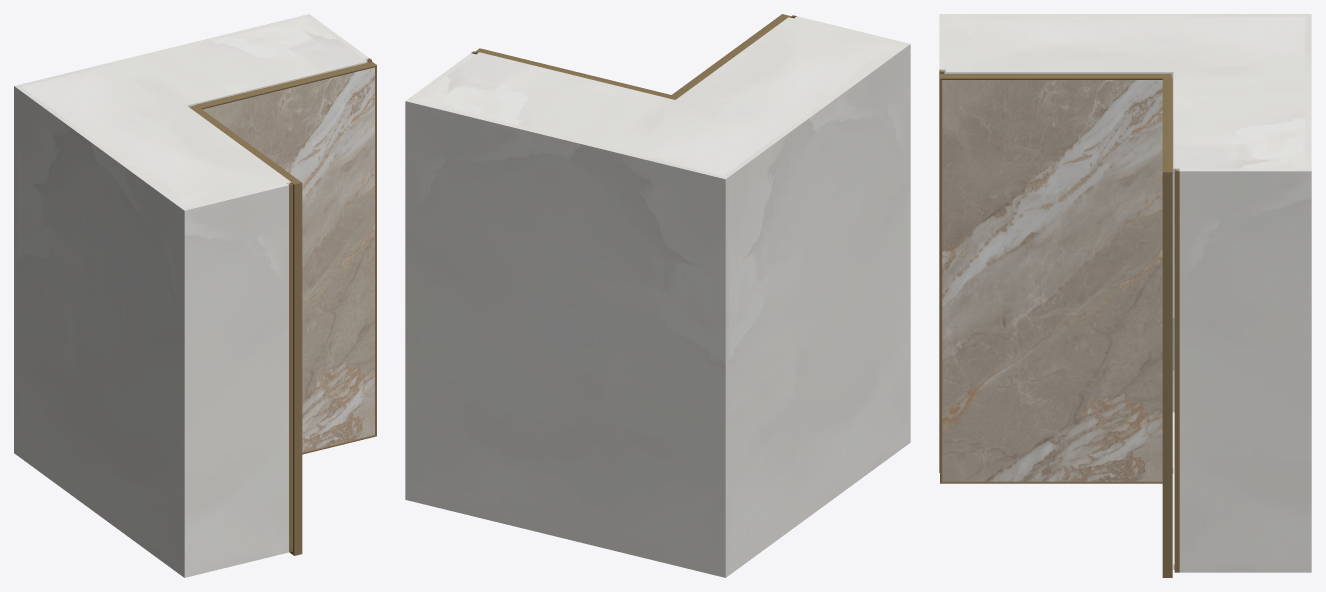
The model's file is WLC-SH-NHX-ST-3SG-XXX-900-1085-336-15.glb.
3 views of the same model, side by side, from view 1: azimuth 30°, elevation 25°; view 2: azimuth 150°, elevation 25°; view 3: azimuth 270°, elevation 25° (orthographic). The views are drawn at different scales.
Parts seen in each view (by area): view 1: TP_node_0, TP_node_2, Object_node_17, TP, Extrusion_node_5, TP_node_1, Object_node_5, Extrusion, Extrusion_node_2, Extrusion_node; view 2: TP_node_1, TP_node_0, TP, TP_node, TP_node_2, Extrusion_node_2, Extrusion; view 3: Object_node_19, TP_node, TP, Extrusion_node, Object_node_11, TP_node_0, Extrusion_node_2, Extrusion_node_5, TP_node_1, Extrusion, Extrusion_node_4.
Boxes of the visible parts, bbox=[...] form: TP_node_0: bbox=[17, 87, 186, 575]; TP_node_2: bbox=[181, 183, 288, 577]; Object_node_17: bbox=[202, 67, 374, 452]; TP: bbox=[22, 17, 367, 207]; Extrusion_node_5: bbox=[293, 183, 302, 555]; TP_node_1: bbox=[14, 15, 306, 454]; Object_node_5: bbox=[289, 182, 292, 552]; Extrusion: bbox=[196, 61, 376, 109]; Extrusion_node_2: bbox=[189, 105, 301, 185]; Extrusion_node: bbox=[375, 65, 376, 435]; TP_node_1: bbox=[410, 100, 728, 577]; TP_node_0: bbox=[723, 45, 907, 575]; TP: bbox=[414, 17, 901, 175]; TP_node: bbox=[405, 53, 475, 500]; TP_node_2: bbox=[794, 16, 910, 444]; Extrusion_node_2: bbox=[668, 14, 790, 99]; Extrusion: bbox=[475, 48, 670, 97]; Object_node_19: bbox=[942, 80, 1162, 481]; TP_node: bbox=[1179, 168, 1311, 572]; TP: bbox=[945, 16, 1305, 174]; Extrusion_node: bbox=[1162, 172, 1172, 577]; Object_node_11: bbox=[1174, 169, 1179, 572]; TP_node_0: bbox=[945, 14, 1305, 412]; Extrusion_node_2: bbox=[940, 74, 1171, 79]; Extrusion_node_5: bbox=[940, 78, 942, 483]; TP_node_1: bbox=[1305, 14, 1311, 168]; Extrusion: bbox=[1162, 77, 1172, 172]; Extrusion_node_4: bbox=[940, 481, 1162, 483].
Size of the model in its own units: 0.9 by 1.09 by 0.9.
Materials: 6 (2 with a texture image).
